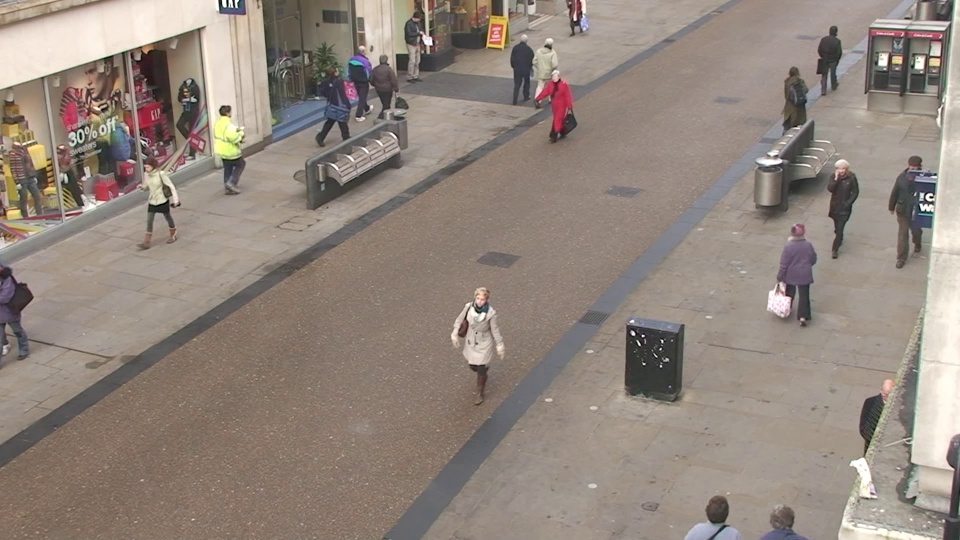pedestrian: (853, 367, 917, 535), (460, 281, 506, 420), (773, 216, 819, 339), (885, 151, 933, 259), (818, 155, 861, 263), (133, 154, 177, 257), (683, 480, 747, 540), (746, 487, 812, 540), (210, 100, 245, 190), (775, 63, 807, 146), (320, 62, 350, 142), (543, 67, 571, 150), (815, 24, 846, 98), (371, 51, 399, 128), (347, 41, 375, 115), (537, 34, 562, 107), (509, 32, 534, 104), (404, 10, 428, 75)
